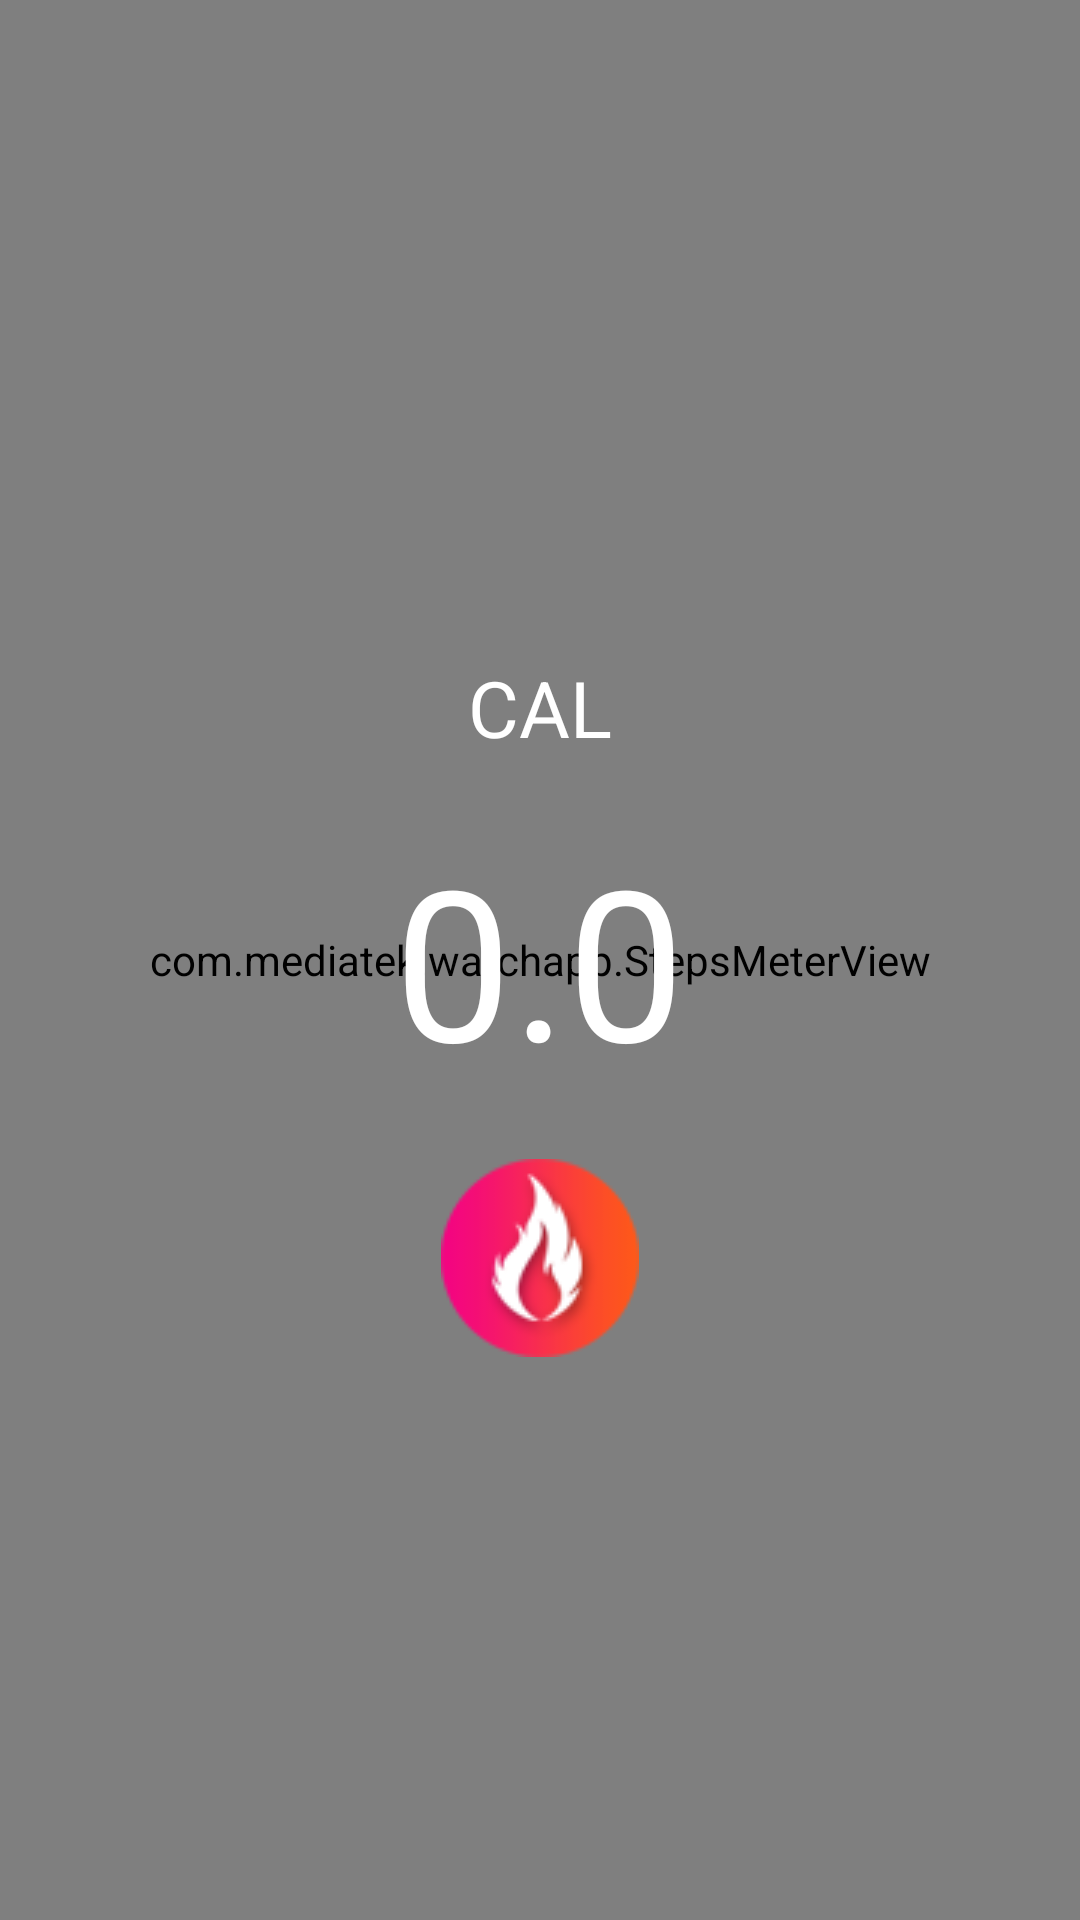

Icons on this 1080×1920 Android screen, each with the point to tap as [x,y]:
sport calorie: [540,1258]
